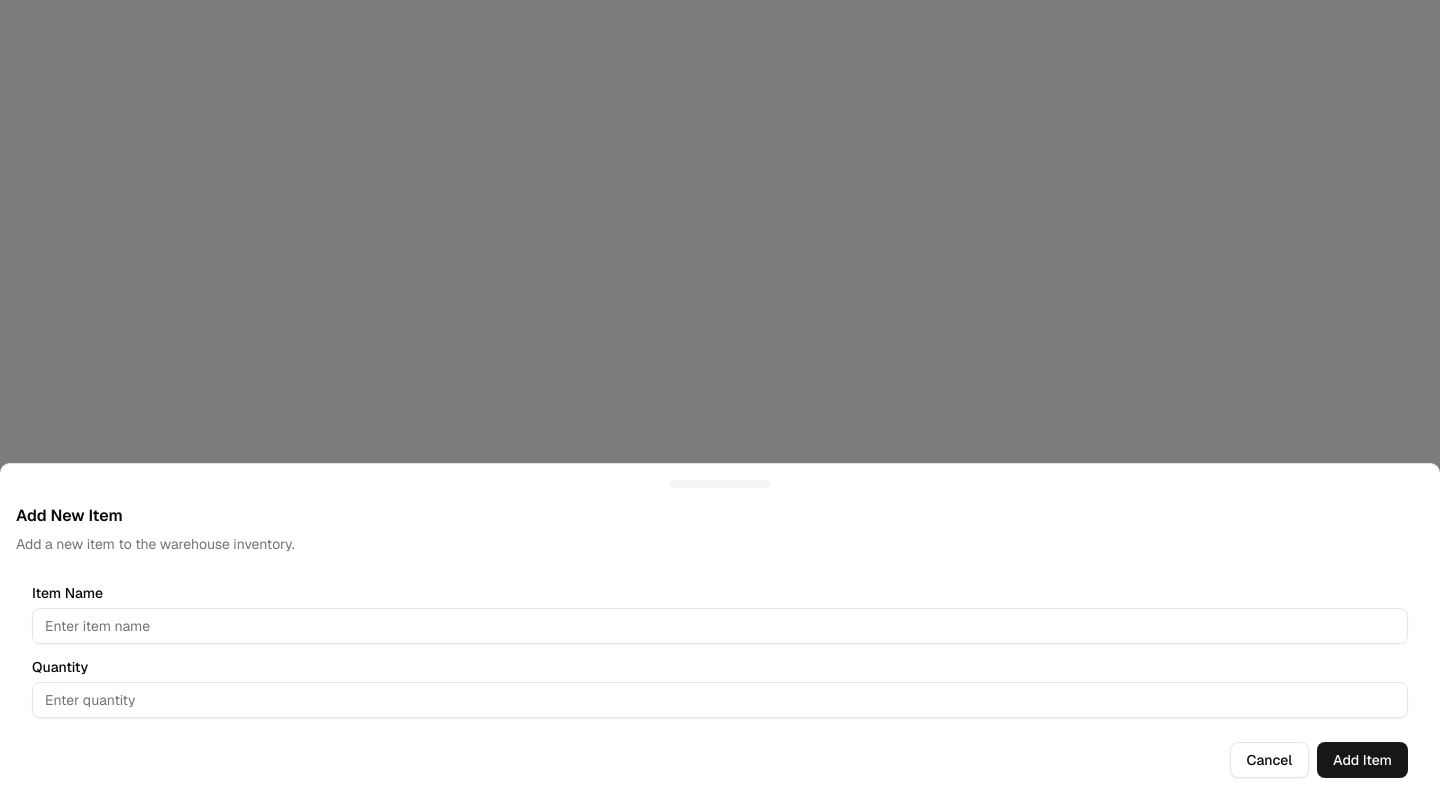
AddItemSheet › shows validation error if quantity is negative
// Set valid name
Type "Valid Name" into the field labelled "Item Name" at [720, 626], box [32,608,1408,644]
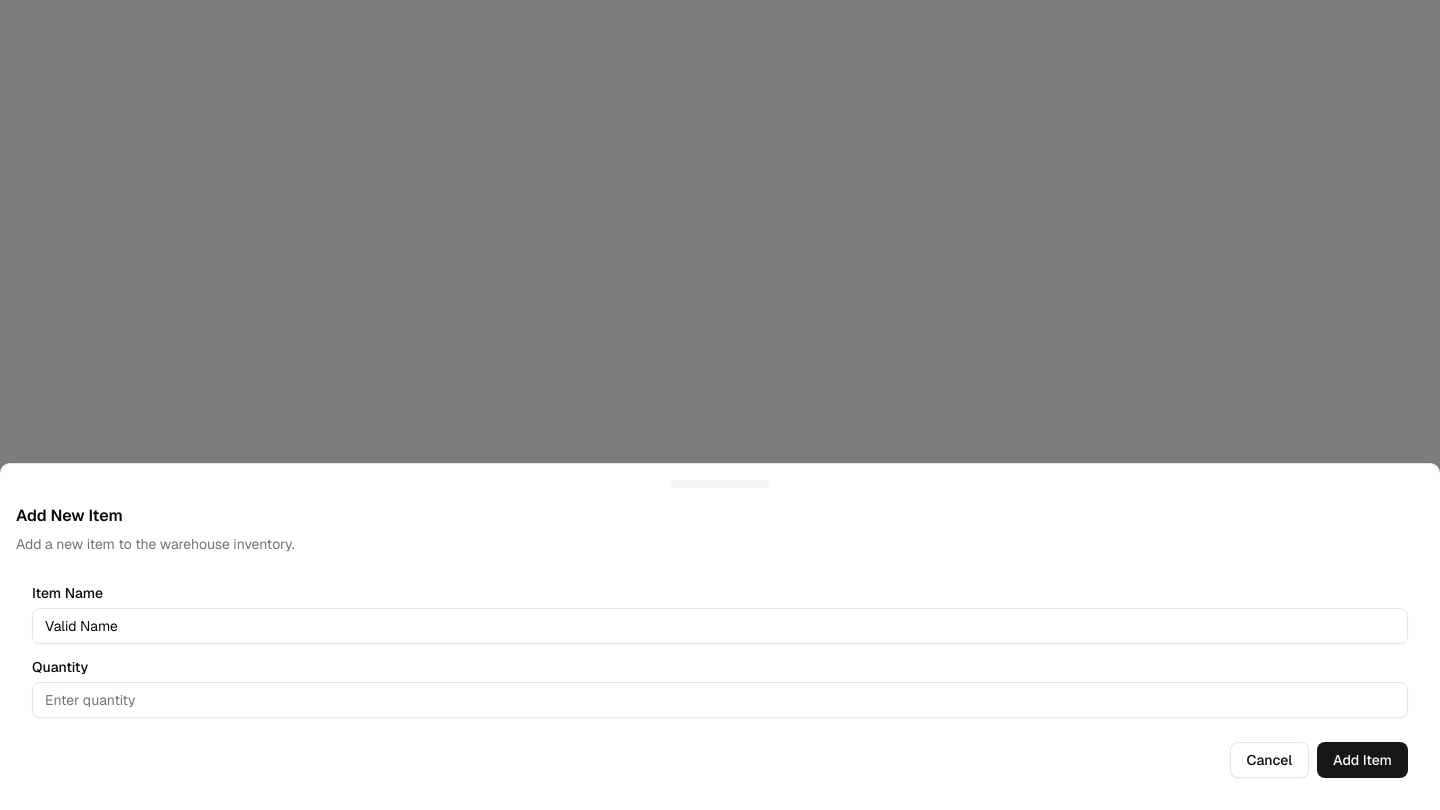
// Set negative quantity
Type "-5" into the number field labelled "Quantity" at [720, 700], box [32,682,1408,718]
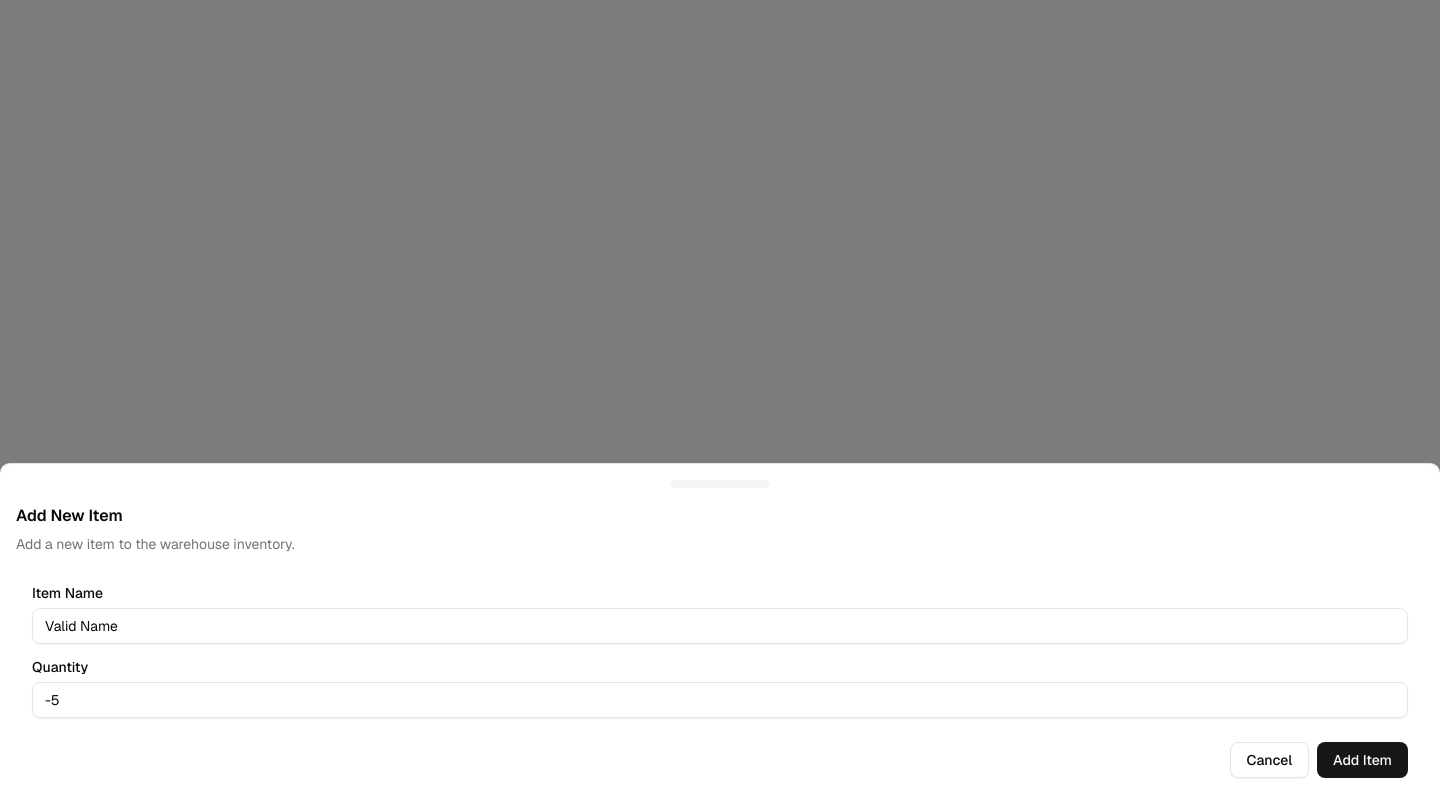
// Submit the form
Click the button "Add Item" at [1363, 760], box [1317,742,1408,778]
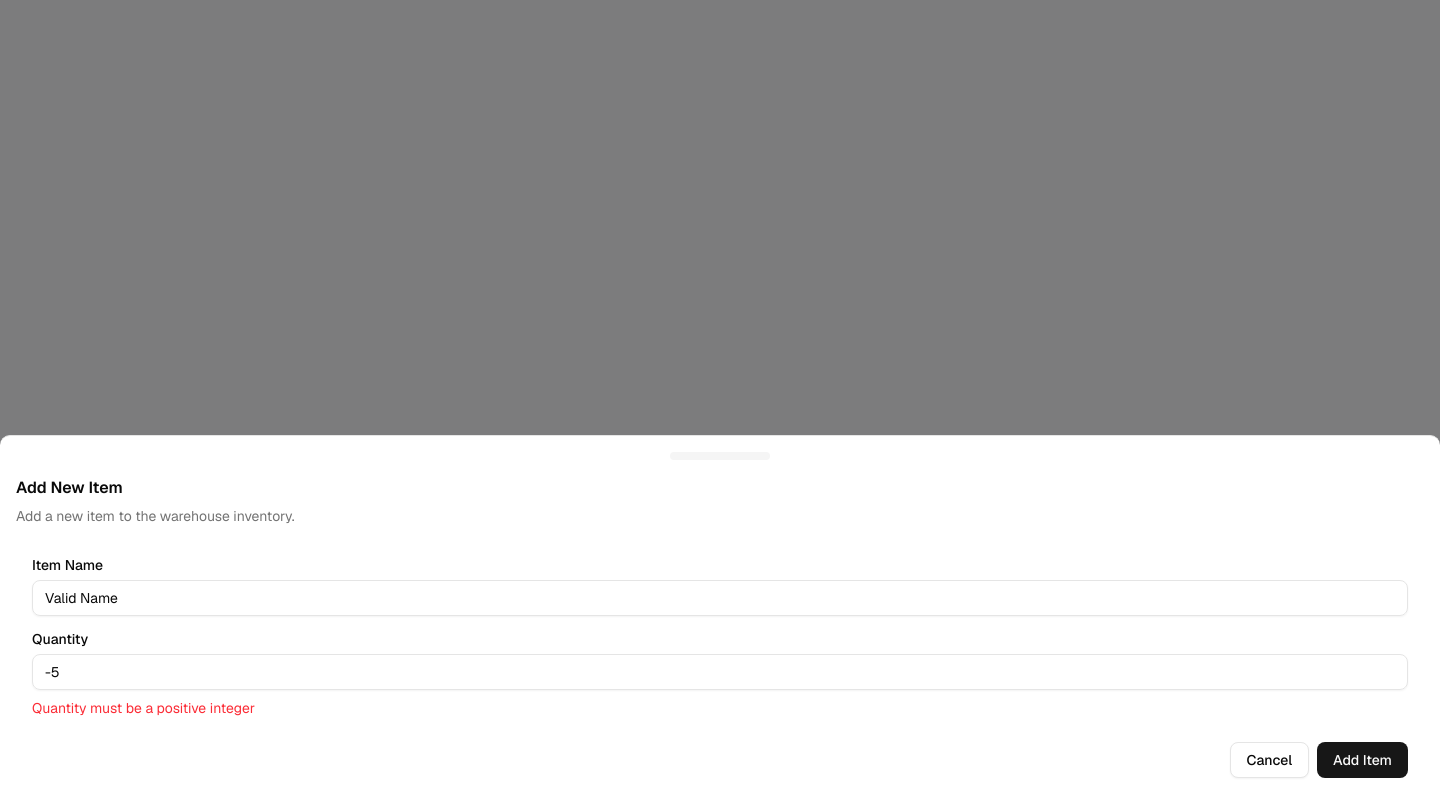
Result: the text "Quantity must be a positive integer" is shown at [32,699,255,717]
